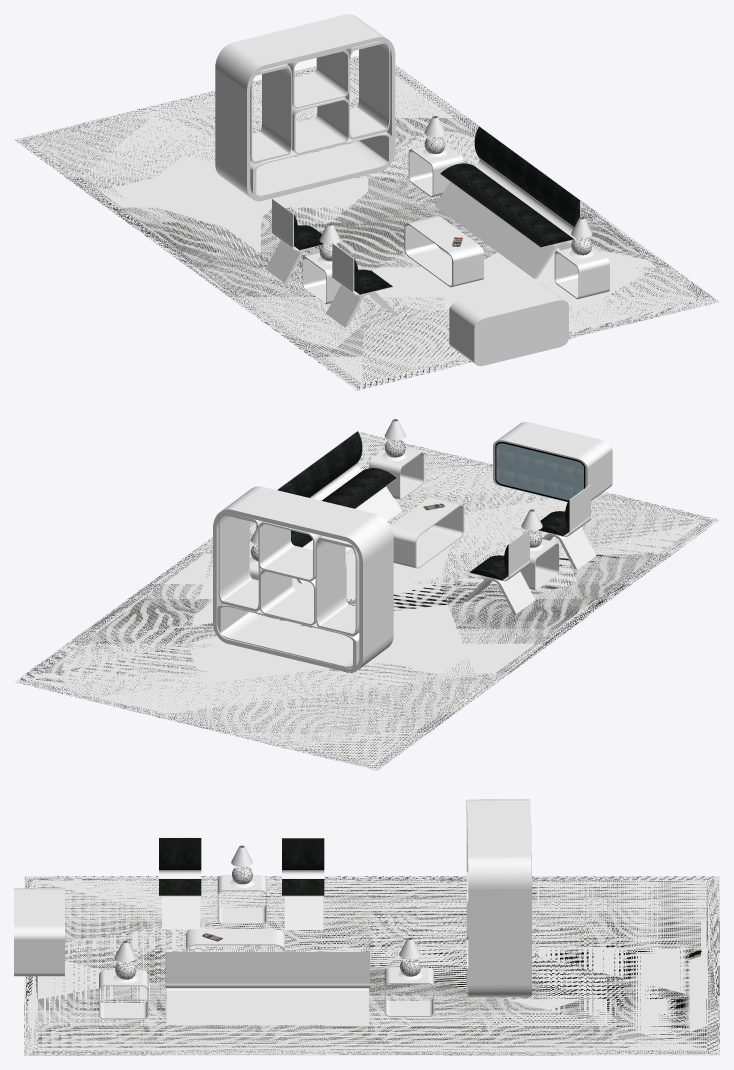
3 renders of one model, top to bottom at view 1: azimuth 30°, elevation 25°; view 2: azimuth 150°, elevation 25°; view 3: azimuth 270°, elevation 25°, orthographic.
Visible parts, largest first — view 1: group_13 (×2), group_6 (×4), group_16, group_21 (×2), group_18 (×2), group_7 (×2), group_20 (×2), group_19, group_8 (×3), group_5 (×2), group_15, group_17 (+3 smaller); view 2: group_13 (×2), group_16, group_21 (×2), group_6 (×4), group_18 (×2), group_7 (×2), group_20 (×2), group_19, group_9 (×3), group_15, group_17, group_8 (×2) (+2 smaller); view 3: group_13 (×2), group_6 (×2), group_16, group_21, group_9 (×4), group_8 (×4), group_7, group_0 (×2), group_5 (×2), group_10 (×2).
Boxes of the visible parts, x1,y1,x2,y2 form: group_13 (×2): [14, 55, 719, 390]; group_6 (×4): [435, 126, 580, 278]; group_16: [215, 14, 395, 201]; group_21 (×2): [449, 282, 568, 366]; group_18 (×2): [250, 132, 391, 196]; group_7 (×2): [404, 215, 483, 287]; group_20 (×2): [250, 64, 292, 164]; group_19: [350, 43, 389, 137]; group_8 (×3): [326, 243, 397, 327]; group_5 (×2): [554, 247, 609, 299]; group_15: [294, 51, 347, 107]; group_17: [295, 100, 348, 152]; group_13 (×2): [14, 431, 719, 770]; group_16: [213, 486, 393, 672]; group_21 (×2): [493, 422, 612, 502]; group_6 (×4): [256, 431, 401, 583]; group_18 (×2): [217, 604, 359, 667]; group_7 (×2): [390, 497, 464, 568]; group_20 (×2): [315, 535, 359, 636]; group_19: [219, 515, 258, 608]; group_9 (×3): [464, 529, 535, 613]; group_15: [259, 524, 312, 579]; group_17: [261, 571, 313, 623]; group_8 (×2): [538, 484, 596, 569]; group_13 (×2): [24, 876, 719, 1055]; group_6 (×2): [165, 951, 369, 1024]; group_16: [466, 799, 531, 997]; group_21: [14, 888, 64, 976]; group_9 (×4): [282, 838, 324, 929]; group_8 (×4): [159, 837, 201, 929]; group_7: [186, 929, 284, 951]; group_0 (×2): [384, 967, 434, 1016]; group_5 (×2): [99, 970, 148, 1019]; group_10 (×2): [217, 875, 266, 923].
Bounding box in the file's own units: 331 × 549 × 118.
11 materials, 4 textured.
